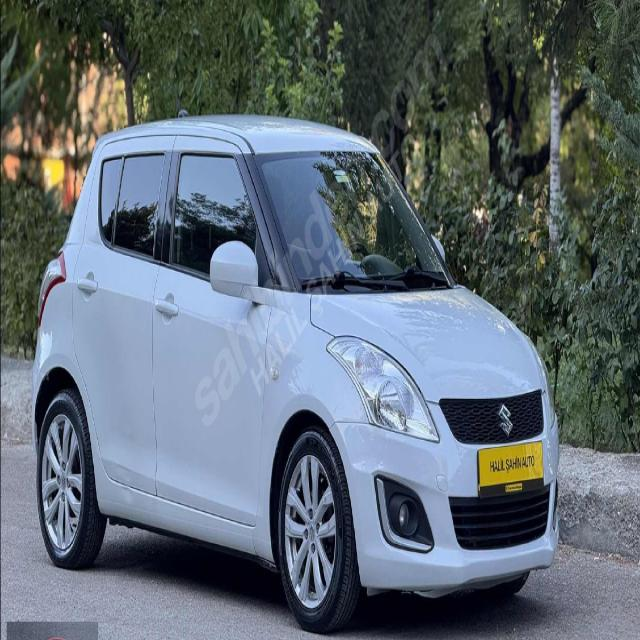suzuki: (495, 400, 514, 441)
